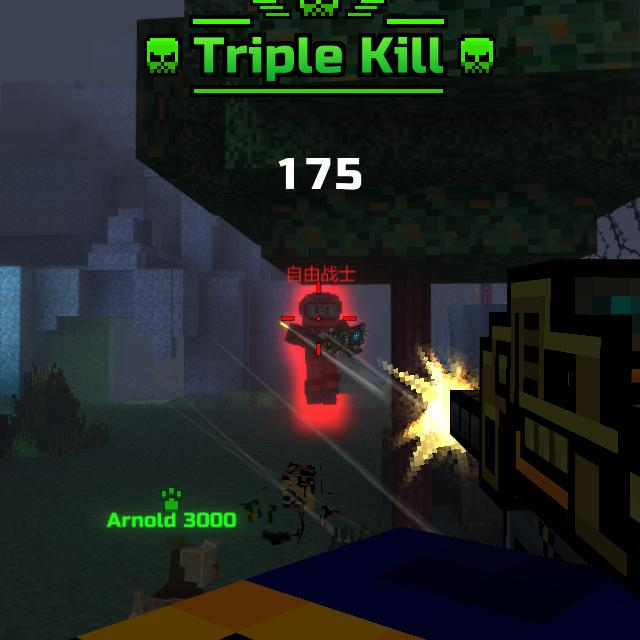Enemy: (283, 291, 363, 405)
